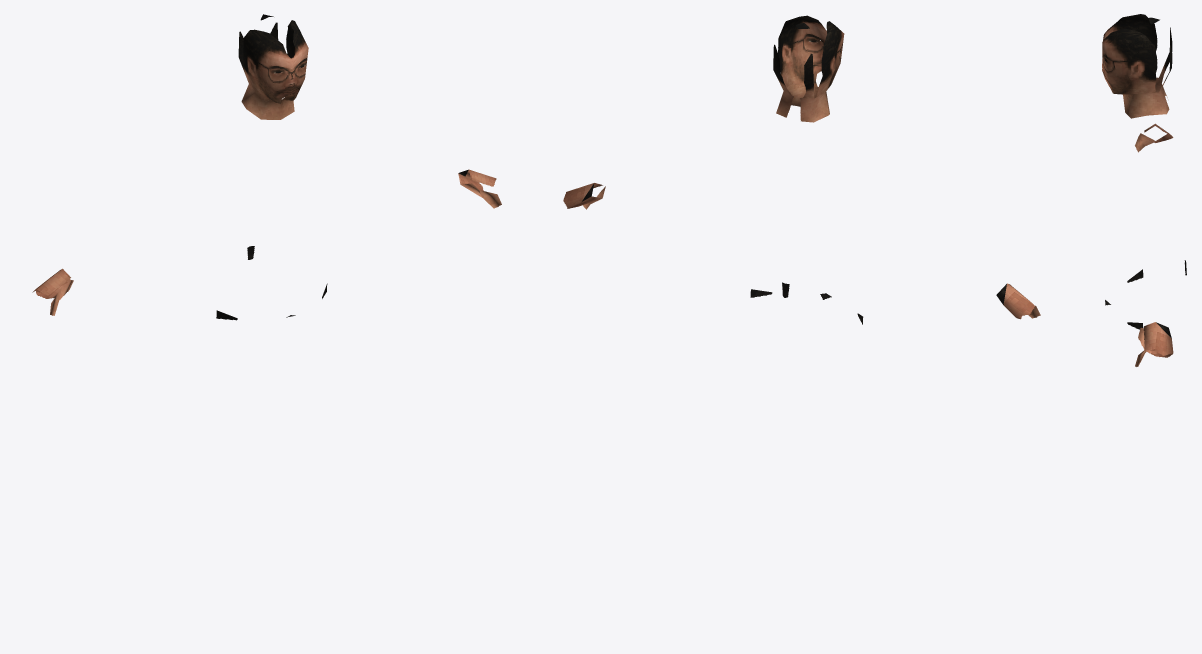
The model's file is Zethron.fbx.
The picture shows the model from 3 angles, left to right: view 1: azimuth 30°, elevation 25°; view 2: azimuth 150°, elevation 25°; view 3: azimuth 270°, elevation 25°; orthographic projection.
Parts seen in each view (by area): view 1: HumanoidBase_Overlapping; view 2: HumanoidBase_Overlapping; view 3: HumanoidBase_Overlapping.
Part boxes in pixels (bbox=[...]): HumanoidBase_Overlapping: bbox=[32, 14, 501, 320]; HumanoidBase_Overlapping: bbox=[563, 15, 1040, 324]; HumanoidBase_Overlapping: bbox=[1102, 14, 1186, 366].
Bounding box in the file's own units: 161 × 180 × 28.62.
Materials: 1 (1 with a texture image).
